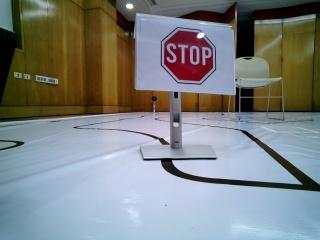stop: (149, 23, 233, 89)
